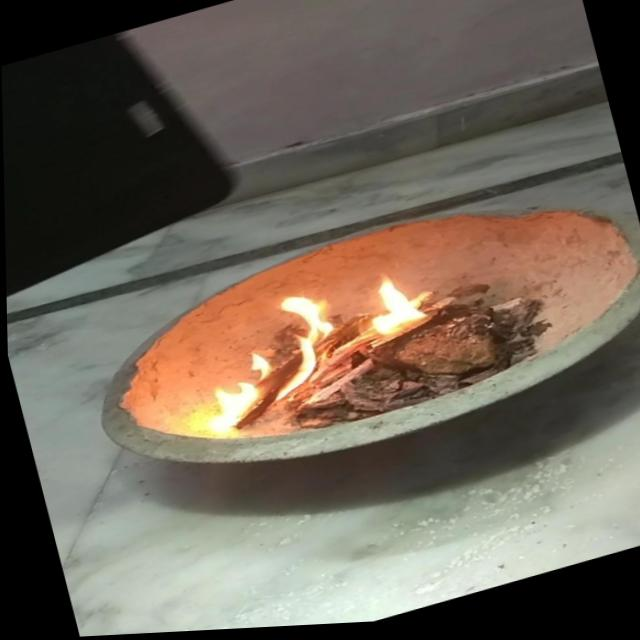fire: (177, 261, 444, 443)
